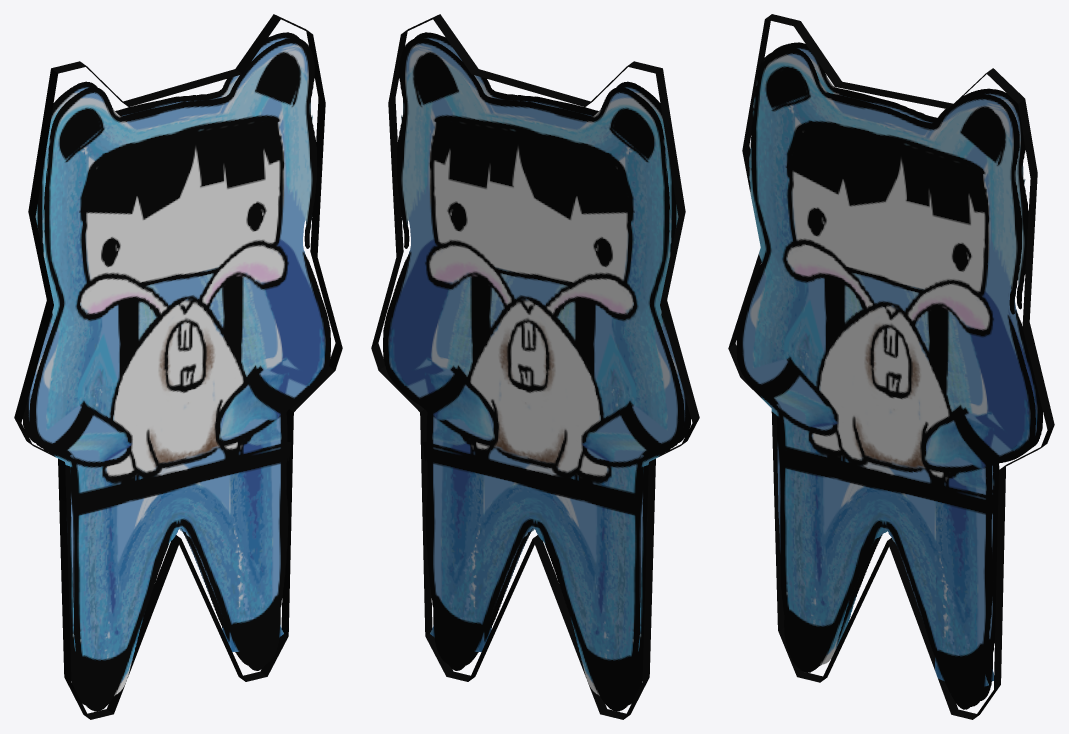
The model's file is PlayerHoldingBun.fbx.
3 views of the same model, side by side, from view 1: azimuth 30°, elevation 25°; view 2: azimuth 150°, elevation 25°; view 3: azimuth 330°, elevation 25° (orthographic).
Visible parts, largest first — view 1: PlayerHolding_MDL; view 2: PlayerHolding_MDL; view 3: PlayerHolding_MDL.
Part boxes in pixels (<box>): PlayerHolding_MDL: <box>14,14,342,719</box>; PlayerHolding_MDL: <box>371,14,699,719</box>; PlayerHolding_MDL: <box>728,14,1054,719</box>.
Bounding box in the file's own units: 103 × 200 × 4.
Materials: 2 (1 with a texture image).
